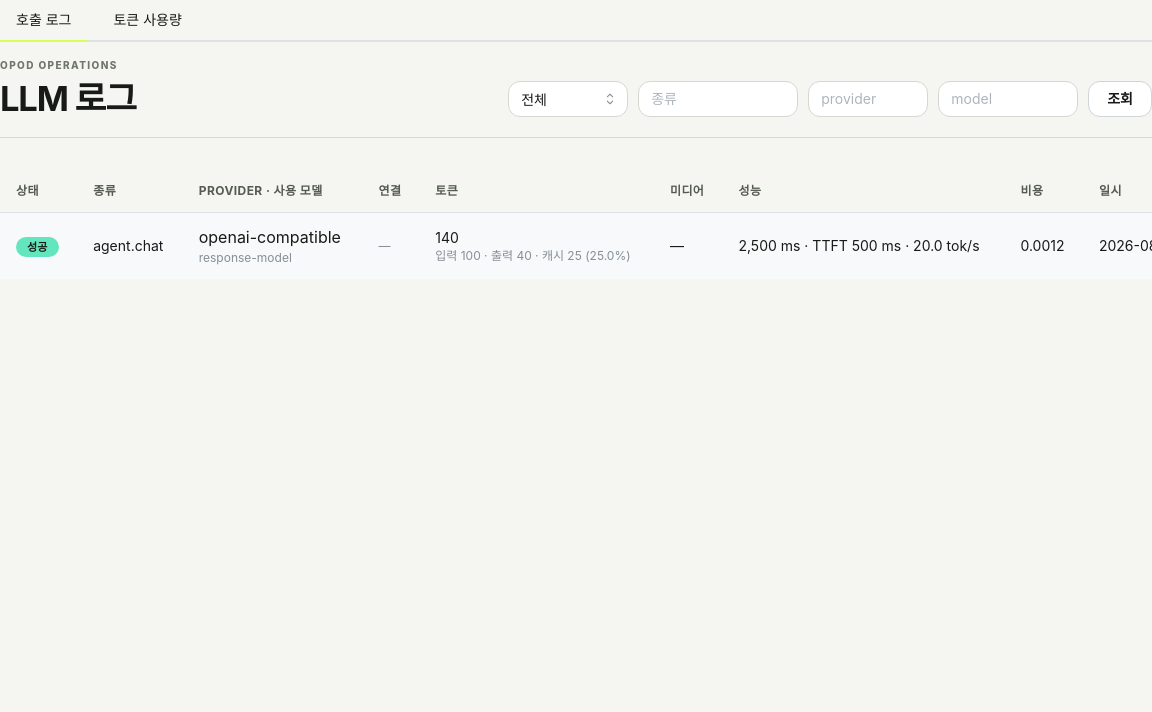
it: LLM log observability › keeps the list compact and shows request/response metrics in detail
Expected: the text "response-model" is shown, [199, 250, 292, 265]
Expected: the text "requested-model" is not shown
Click the text "response-model": (576, 246) [0, 213, 1151, 279]
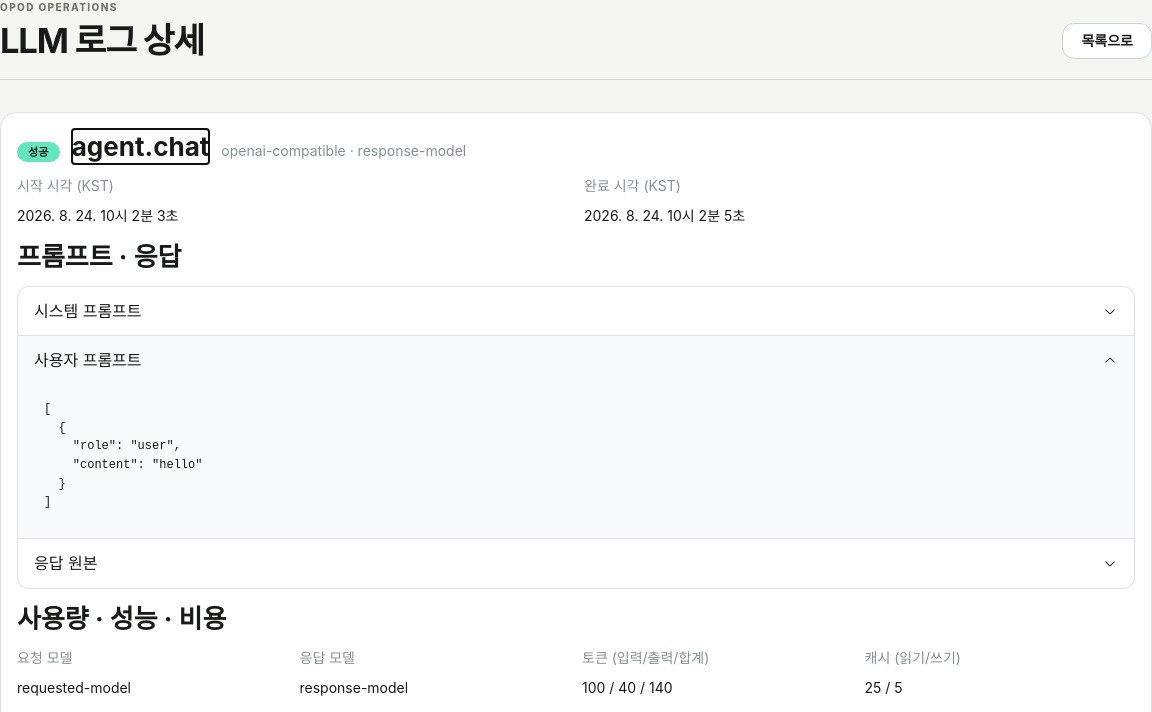
Expected: the text "요청 모델" is shown, [17, 649, 72, 666]
Expected: the text "requested-model" is shown, [17, 679, 131, 696]
Expected: the text "응답 모델" is shown, [300, 649, 355, 666]
